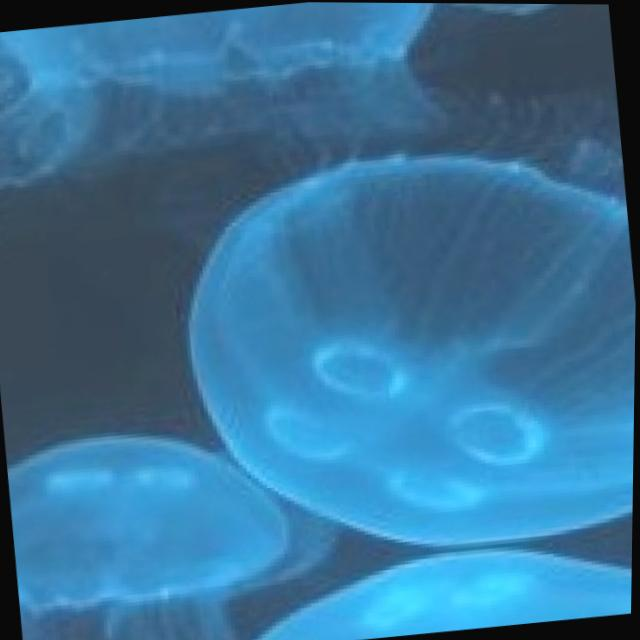Moon-jellyfish: (163, 128, 639, 578)
